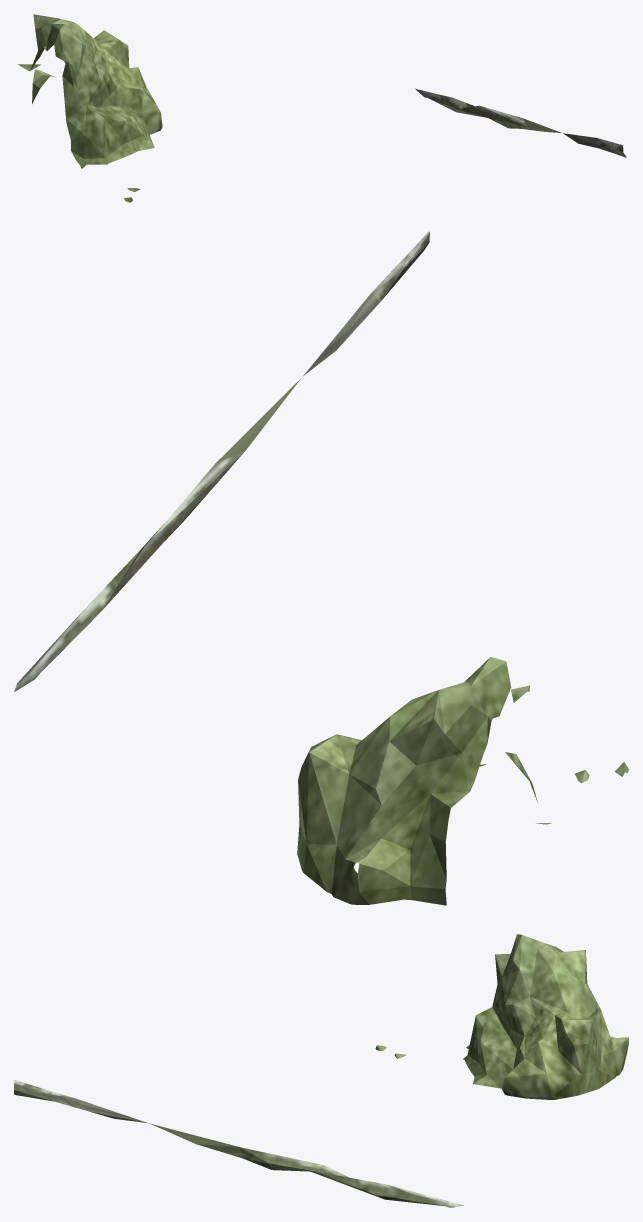
3 renders of one model, top to bottom at view 1: azimuth 30°, elevation 25°; view 2: azimuth 150°, elevation 25°; view 3: azimuth 270°, elevation 25°, orthographic. The views are drawn at different scales.
Size of the model in its own units: 7.26 by 2.51 by 11.8.
Materials: 1 (1 with a texture image).
